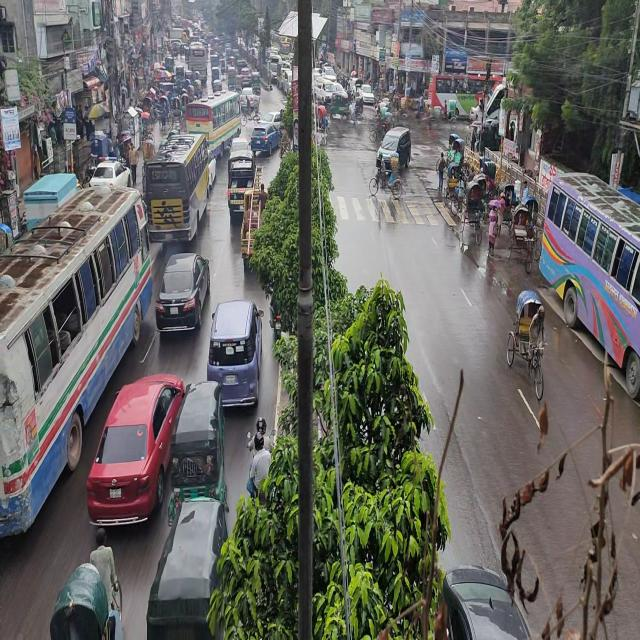black: (154, 257, 208, 329)
red: (90, 372, 166, 538)
